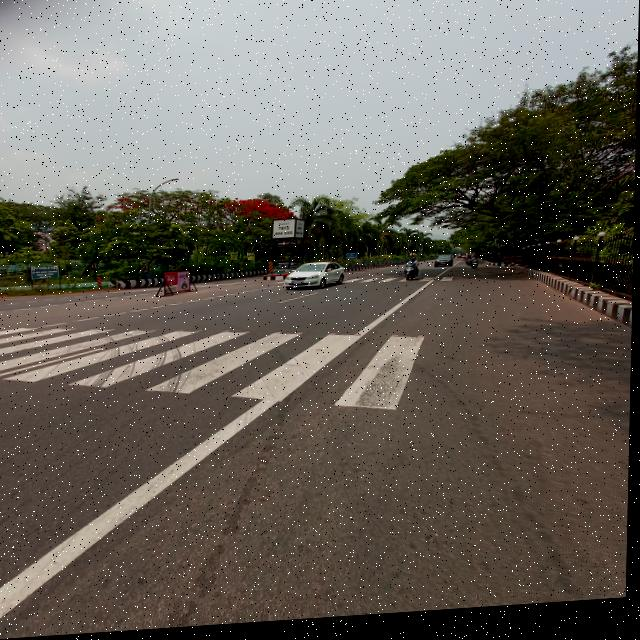bike: (401, 268, 425, 288)
car: (278, 263, 349, 296)
